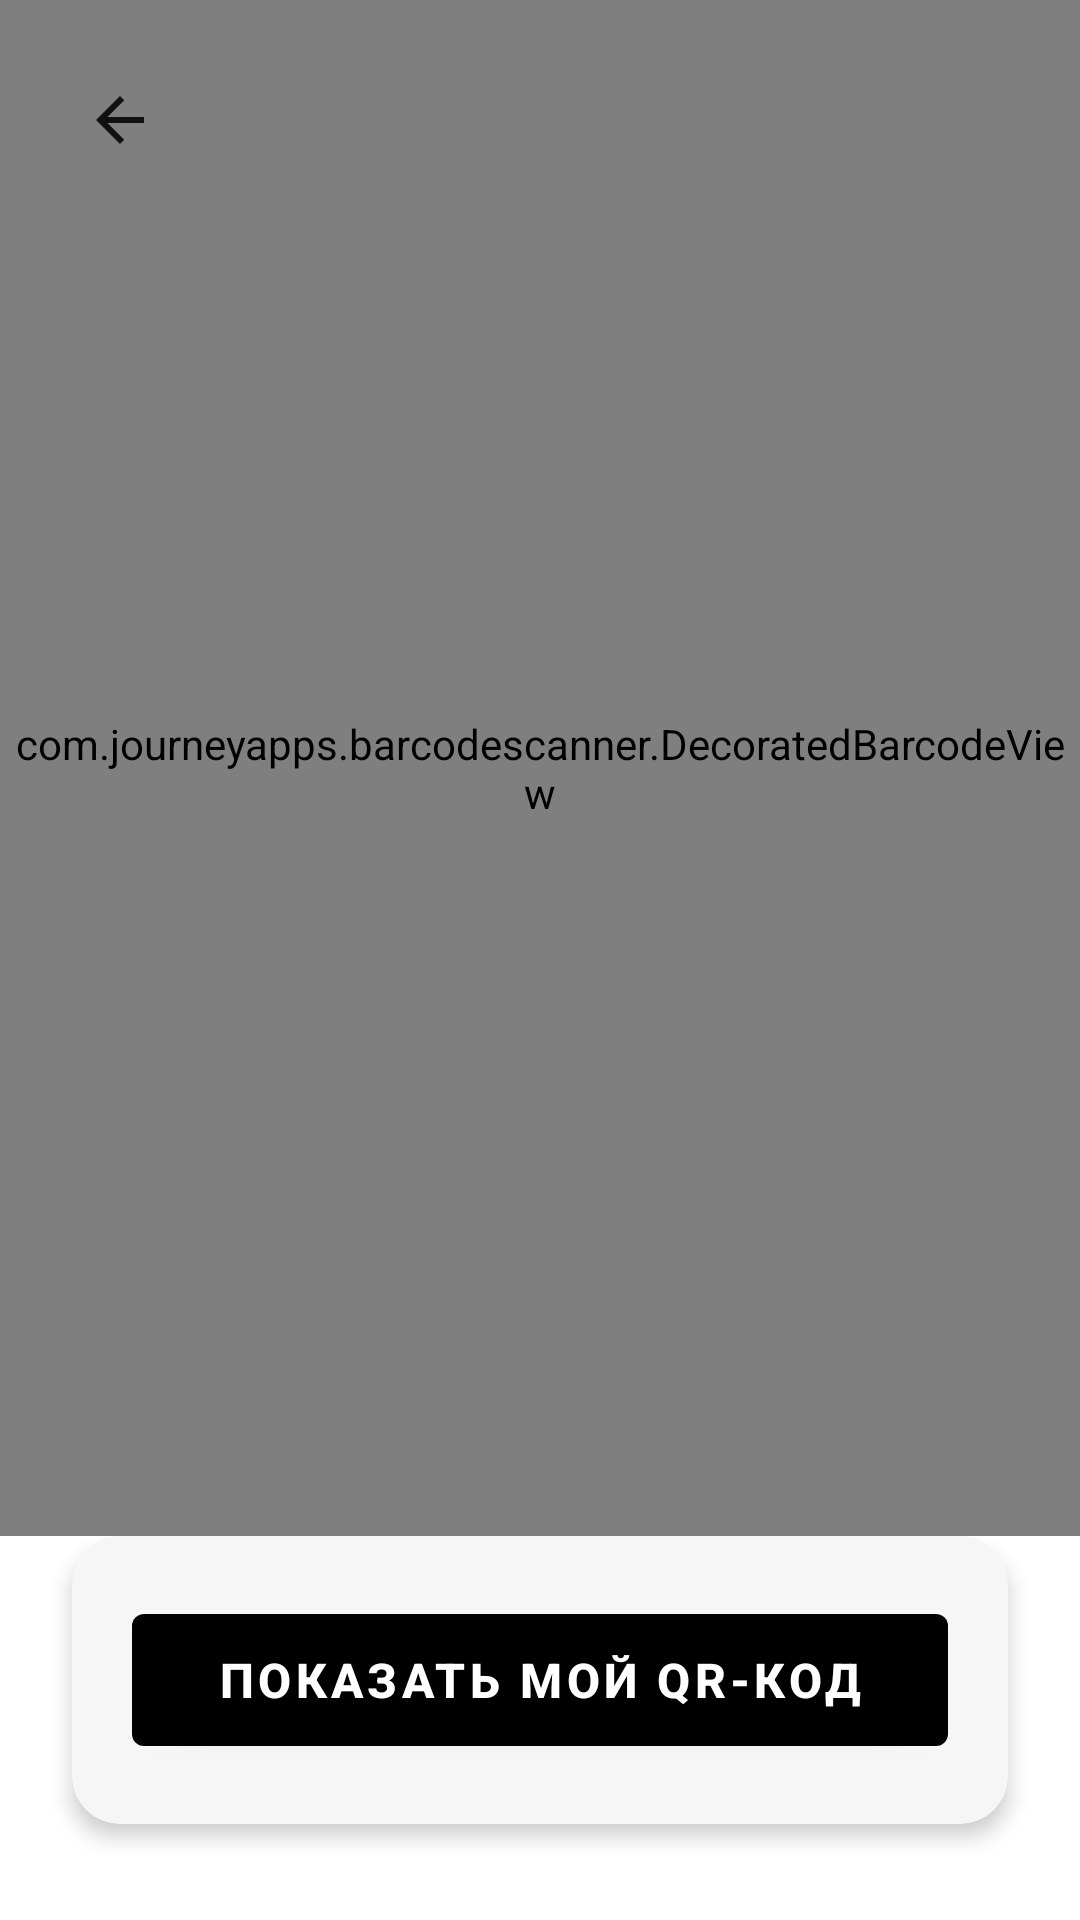

Icons on this 1080px x 1920px Android screen, each with its box as (x1, y1, x2, y2):
Назад: (96, 96, 144, 144)
